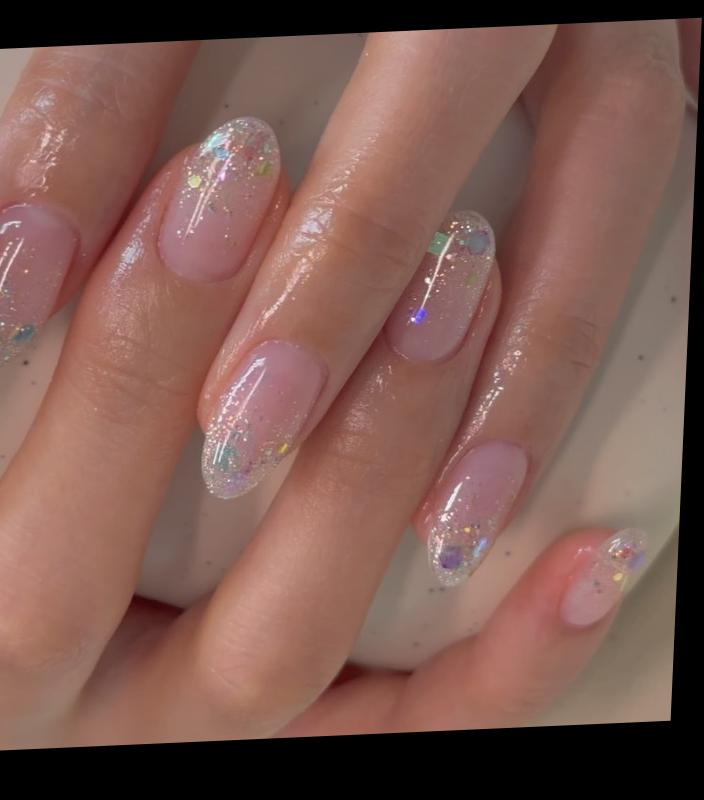nail: (151, 113, 284, 287), (197, 336, 330, 501), (379, 207, 500, 367), (423, 437, 531, 588), (0, 198, 83, 369), (555, 525, 650, 631)
